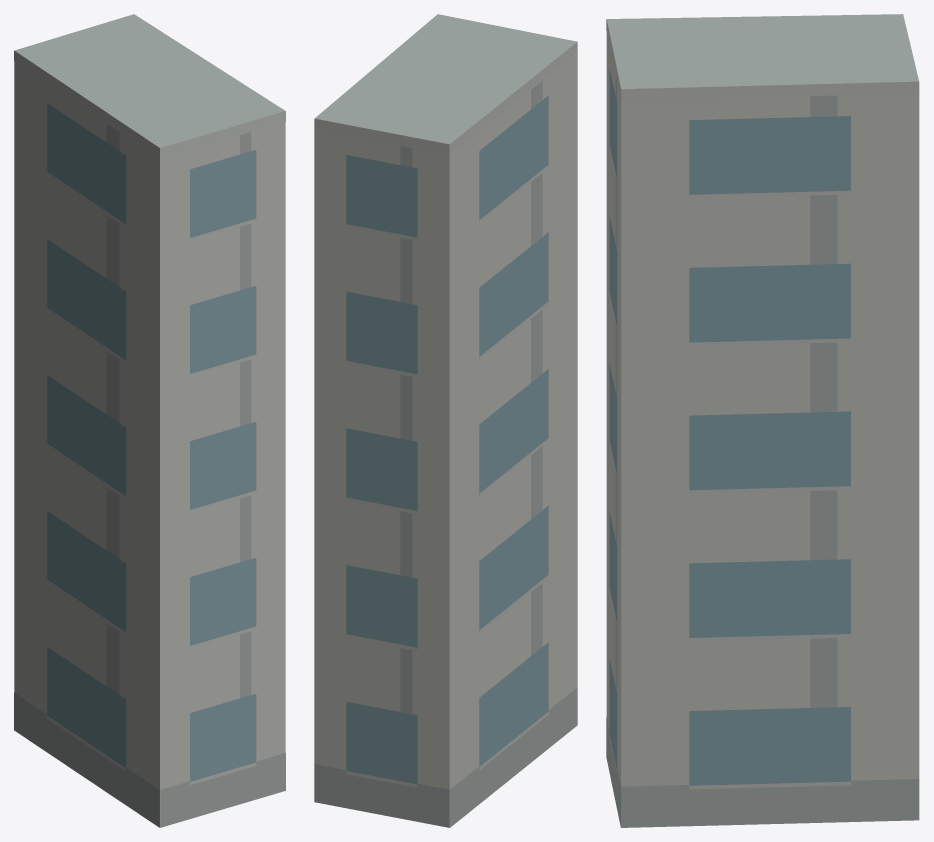
Rendered from survey-upis-32632480.glb.
The picture shows the model from 3 angles, left to right: view 1: azimuth 30°, elevation 25°; view 2: azimuth 150°, elevation 25°; view 3: azimuth 270°, elevation 25°; orthographic projection. The views are drawn at different scales.
Visible parts, largest first — view 1: survey-upis-32632480.tmp; view 2: survey-upis-32632480.tmp; view 3: survey-upis-32632480.tmp.
Boxes of the visible parts, left/top/right/bottom form: survey-upis-32632480.tmp: left=14, top=14, right=285, bottom=827; survey-upis-32632480.tmp: left=314, top=14, right=577, bottom=827; survey-upis-32632480.tmp: left=606, top=14, right=919, bottom=827.
Bounding box in the file's own units: 3.34 × 15.25 × 5.86.
